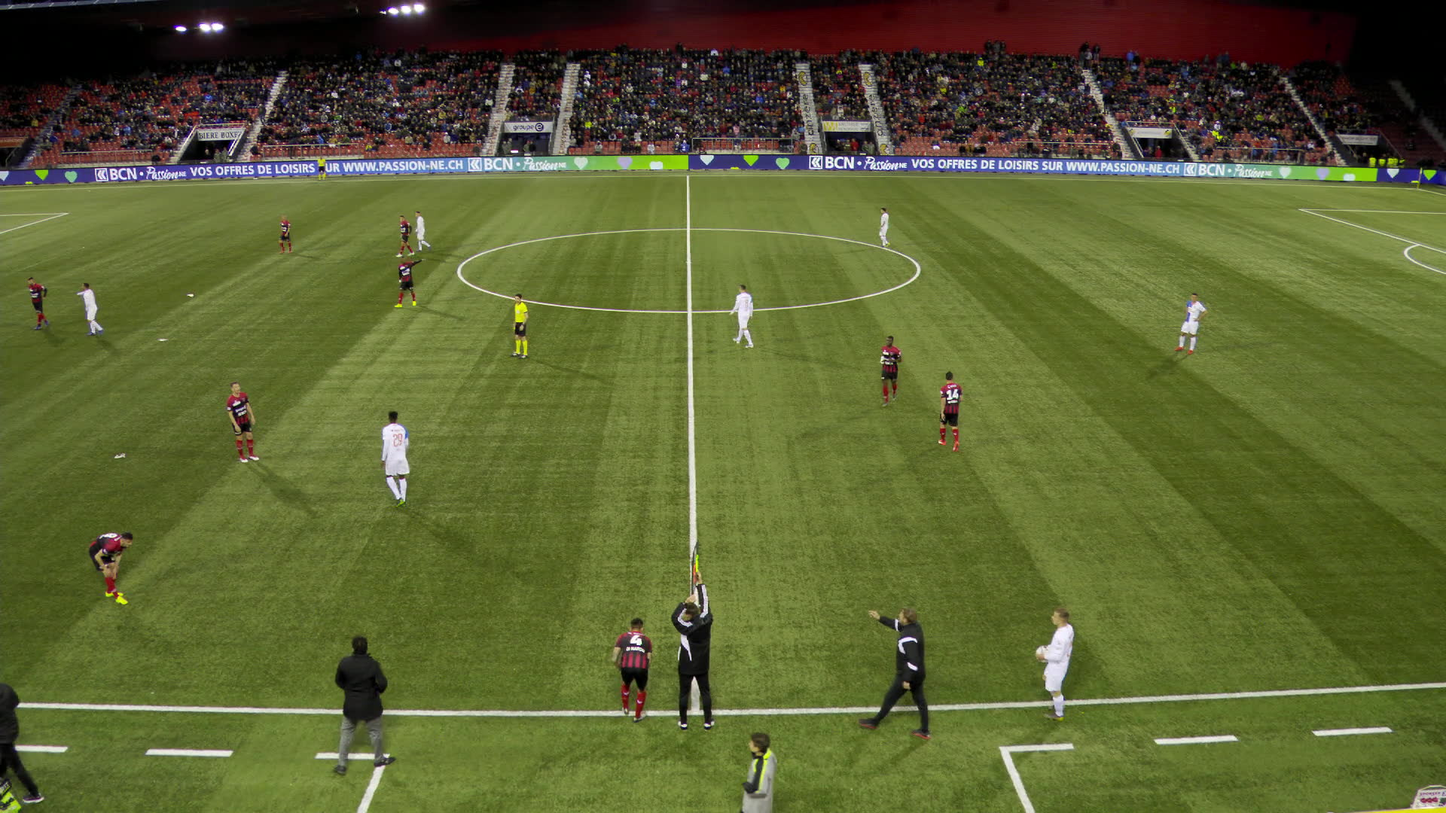ball: (1036, 646, 1048, 662)
player: (1034, 607, 1075, 720), (87, 531, 133, 604), (381, 410, 410, 508), (225, 382, 258, 461), (936, 371, 963, 449), (1175, 292, 1206, 354), (75, 283, 105, 336), (878, 337, 901, 406), (395, 256, 426, 307), (731, 284, 754, 348), (27, 276, 49, 329), (412, 211, 430, 251), (398, 215, 413, 256), (277, 214, 291, 253), (876, 207, 889, 247)
referee: (510, 294, 528, 358), (317, 155, 325, 181)
